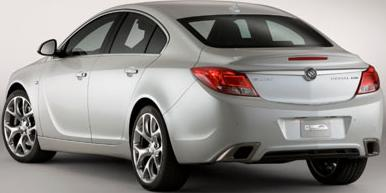back_view: (186, 54, 386, 167)
backlight: (187, 62, 261, 100)
side_glass: (51, 8, 174, 61)
